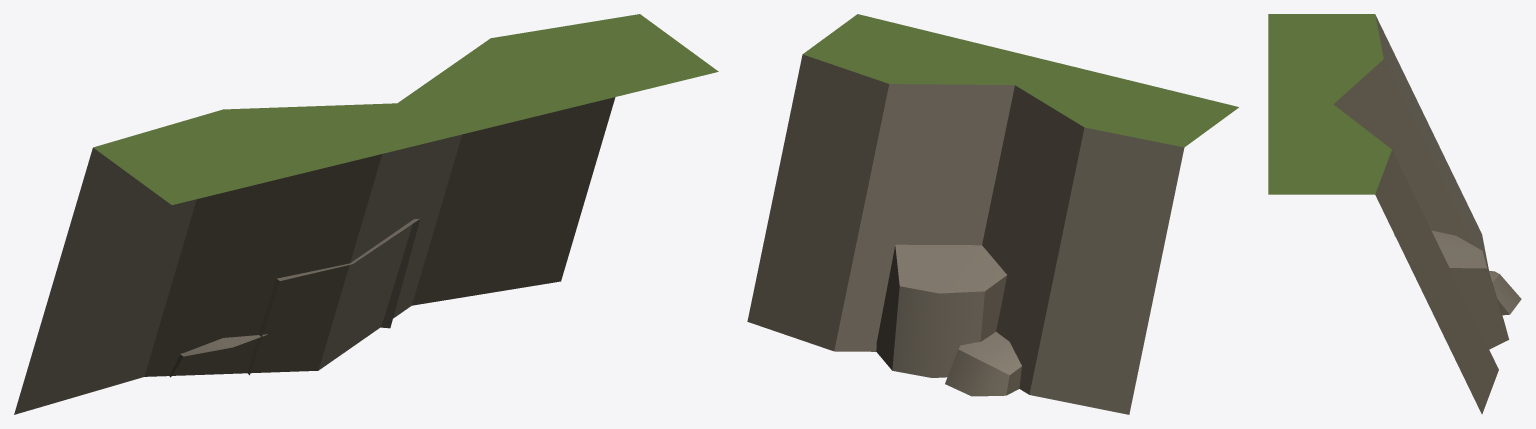
File: SF_Env_CliffEdge_Straight_02.fbx
3 renders of one model, left to right at view 1: azimuth 30°, elevation 25°; view 2: azimuth 150°, elevation 25°; view 3: azimuth 270°, elevation 25°, orthographic. The views are drawn at different scales.
Parts seen in each view (by area): view 1: SF_Env_CliffEdge_Straight_02; view 2: SF_Env_CliffEdge_Straight_02; view 3: SF_Env_CliffEdge_Straight_02.
Part boxes in pixels (bbox=[...]): SF_Env_CliffEdge_Straight_02: bbox=[14, 14, 718, 414]; SF_Env_CliffEdge_Straight_02: bbox=[747, 14, 1238, 414]; SF_Env_CliffEdge_Straight_02: bbox=[1268, 14, 1521, 414].
Size of the model in its own units: 10 by 5.68 by 5.93.
